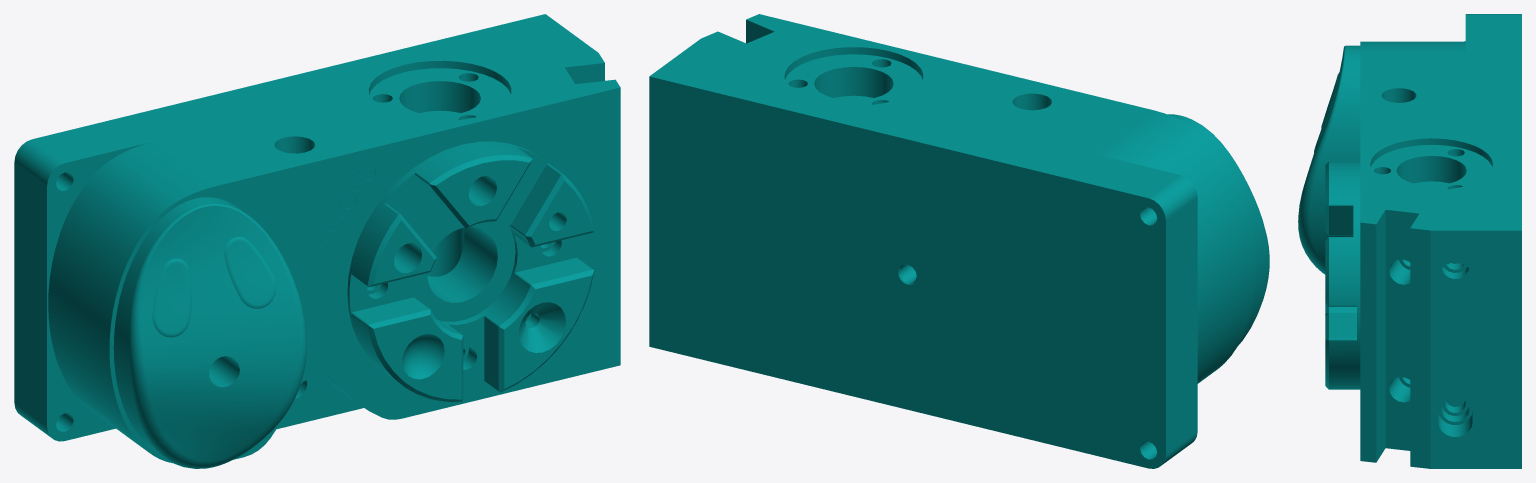
Rendered from Sample_Part_1_STEP.glb.
3 views of the same model, side by side, from view 1: azimuth 30°, elevation 25°; view 2: azimuth 150°, elevation 25°; view 3: azimuth 270°, elevation 25° (orthographic). The views are drawn at different scales.
Visible parts, largest first — view 1: Solid1; view 2: Solid1; view 3: Solid1.
Boxes of the visible parts, x1=… form: Solid1: x1=14, y1=14, x2=620, y2=468; Solid1: x1=649, y1=14, x2=1269, y2=468; Solid1: x1=1298, y1=14, x2=1521, y2=468.
Size of the model in its own units: 0.15 by 0.075 by 0.0638.
